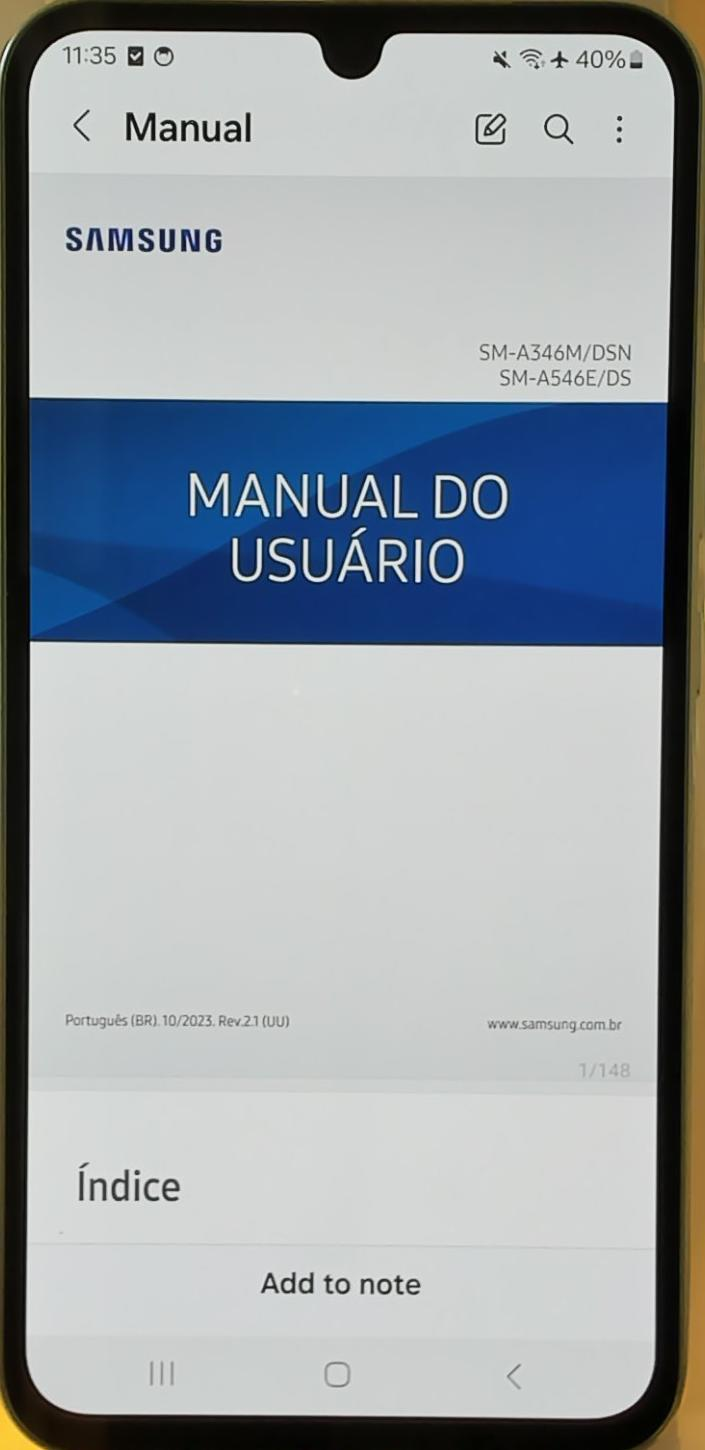CommunBotton: (246, 1254, 428, 1312), (60, 90, 108, 158), (460, 94, 514, 154), (138, 1338, 190, 1396), (538, 102, 582, 156), (492, 1350, 538, 1400), (312, 1344, 352, 1398)
menu: (604, 102, 632, 154)
